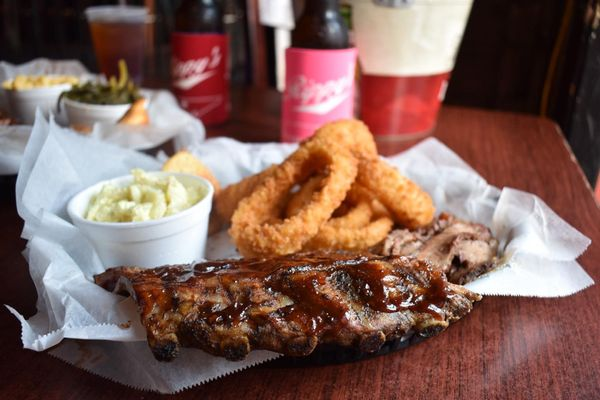sushi: (66, 169, 213, 270), (55, 77, 143, 138), (4, 72, 81, 123)
